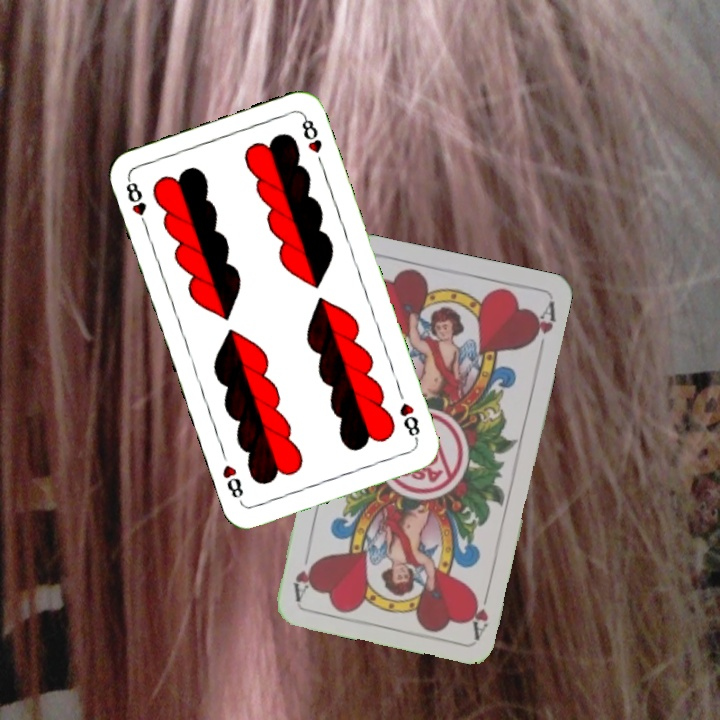H8: (122, 174, 151, 231), (395, 398, 423, 445)
HA: (467, 581, 494, 640)
